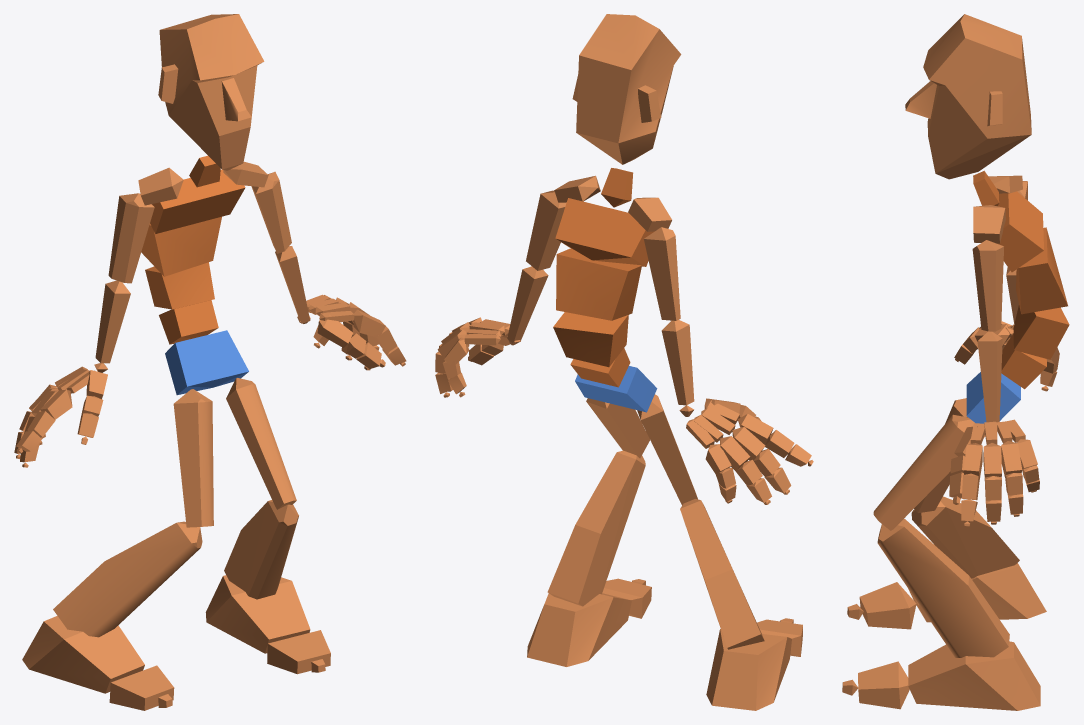
The picture shows the model from 3 angles, left to right: view 1: azimuth 30°, elevation 25°; view 2: azimuth 150°, elevation 25°; view 3: azimuth 270°, elevation 25°; orthographic projection. The views are drawn at different scales.
Visible parts, largest first — view 1: BOPED_Head, BOPED_R_leg, BOPED_R_foot, BOPED_R_foot01, BOPED_L_leg, BOPED_R_legup, BOPED_L_legup, Bone01, Bone05, Bone04, BOPED_R_arm_upper, Bone03 (+10 smaller); view 2: BOPED_Head, BOPED_L_leg, BOPED_R_foot01, BOPED_R_foot, BOPED_R_leg, Bone04, Bone05, Bone03, BOPED_R_arm_upper, BOPED_R_legup, BOPED_L_arm_upper, Bone01 (+11 smaller); view 3: BOPED_Head, BOPED_L_leg, BOPED_R_foot01, BOPED_R_leg, BOPED_L_legup, BOPED_R_foot, Bone05, Bone04, BOPED_L_arm_upper, Bone03, BOPED_R_foot_toe01, BOPED_R_foot_toe04 (+15 smaller).
Part boxes in pixels (x1,y1,x2,y2): BOPED_Head: [158, 14, 264, 170]; BOPED_R_leg: [53, 521, 202, 637]; BOPED_R_foot: [22, 616, 144, 693]; BOPED_R_foot01: [205, 575, 310, 653]; BOPED_L_leg: [224, 500, 298, 599]; BOPED_R_legup: [173, 389, 213, 527]; BOPED_L_legup: [226, 378, 296, 509]; Bone01: [165, 330, 248, 395]; Bone05: [150, 169, 245, 233]; Bone04: [141, 216, 221, 276]; BOPED_R_arm_upper: [108, 193, 154, 283]; Bone03: [145, 262, 214, 309]; BOPED_Head: [572, 14, 681, 164]; BOPED_L_leg: [547, 450, 645, 606]; BOPED_R_foot01: [527, 593, 631, 666]; BOPED_R_foot: [706, 629, 791, 710]; BOPED_R_leg: [680, 499, 764, 649]; Bone04: [556, 248, 641, 320]; Bone05: [555, 198, 654, 266]; Bone03: [553, 312, 628, 367]; BOPED_R_arm_upper: [644, 227, 680, 320]; BOPED_R_legup: [637, 394, 697, 505]; BOPED_L_arm_upper: [526, 190, 566, 270]; Bone01: [575, 366, 657, 412]; BOPED_Head: [905, 14, 1031, 179]; BOPED_L_leg: [877, 519, 1009, 657]; BOPED_R_foot01: [908, 641, 1040, 710]; BOPED_R_leg: [911, 496, 1019, 578]; BOPED_L_legup: [873, 414, 975, 530]; BOPED_R_foot: [908, 563, 1046, 622]; Bone05: [997, 191, 1043, 272]; Bone04: [1016, 227, 1067, 314]; BOPED_L_arm_upper: [972, 240, 1003, 331]; Bone03: [1013, 305, 1069, 359]; BOPED_R_foot_toe01: [859, 582, 916, 629]; BOPED_R_foot_toe04: [858, 661, 909, 709].
Bounding box in the file's own units: 113 × 178 × 56.5.
